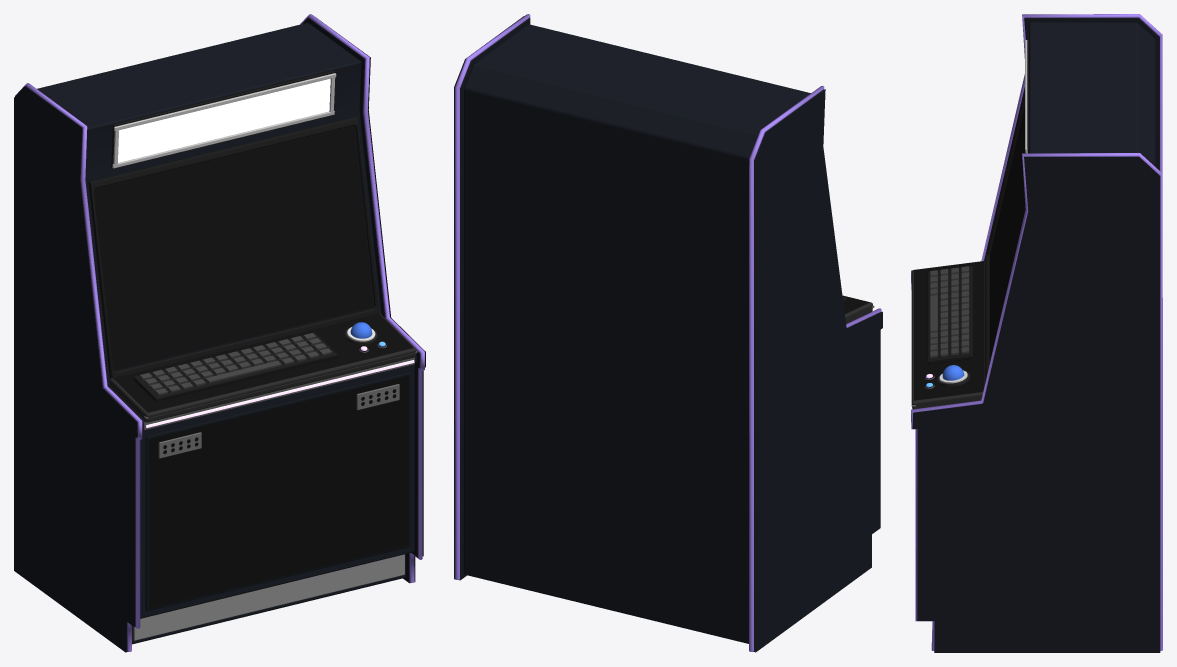
File: mach-nexus.glb
3 renders of one model, left to right at view 1: azimuth 30°, elevation 25°; view 2: azimuth 150°, elevation 25°; view 3: azimuth 270°, elevation 25°, orthographic. The views are drawn at different scales.
Parts seen in each view (by area): view 1: screen, side_art_l, front_art, glass, body, controls, metal, marquee, trim, deck_art, speaker, side_art_r; view 2: body, side_art_l, trim; view 3: side_art_r, body, controls, trim, deck_art, screen, glass, metal, trackball.
Part boxes in pixels (bbox=[...]): screen: bbox=[94, 126, 373, 370]; side_art_l: bbox=[14, 86, 136, 652]; front_art: bbox=[149, 376, 408, 608]; glass: bbox=[95, 126, 374, 370]; body: bbox=[25, 17, 425, 651]; controls: bbox=[88, 70, 416, 569]; metal: bbox=[112, 73, 417, 640]; marquee: bbox=[118, 78, 330, 162]; trim: bbox=[15, 14, 424, 651]; deck_art: bbox=[113, 313, 413, 412]; speaker: bbox=[158, 384, 399, 458]; side_art_r: bbox=[316, 17, 425, 581]; body: bbox=[459, 17, 881, 651]; side_art_l: bbox=[755, 89, 882, 652]; trim: bbox=[455, 14, 881, 651]; side_art_r: bbox=[913, 157, 1160, 652]; body: bbox=[914, 17, 1159, 412]; controls: bbox=[911, 38, 1028, 409]; trim: bbox=[911, 14, 1162, 650]; deck_art: bbox=[914, 261, 984, 400]; screen: bbox=[989, 107, 1025, 363]; glass: bbox=[987, 97, 1024, 366]; metal: bbox=[911, 40, 1027, 407]; trackball: bbox=[937, 365, 969, 386].
Size of the model in its own units: 0.953 by 1.56 by 0.7132.
